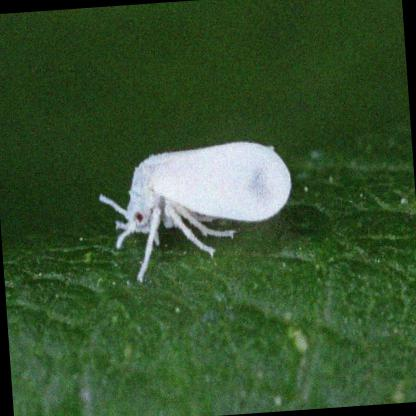whitefly: (104, 141, 290, 283)
